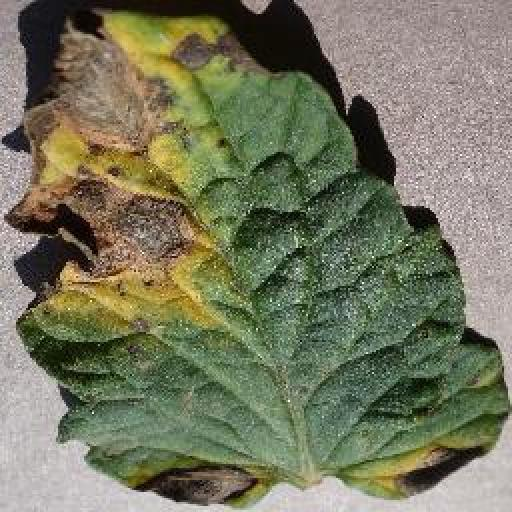disease_tomato: (11, 0, 510, 512)
